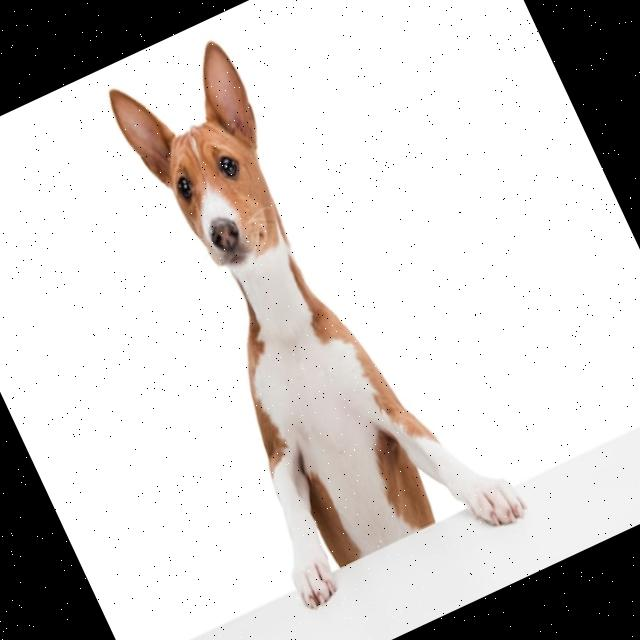Dog: (70, 4, 530, 618)
